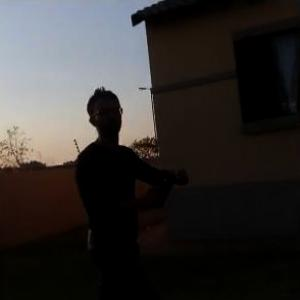follow: (73, 77, 194, 299)
